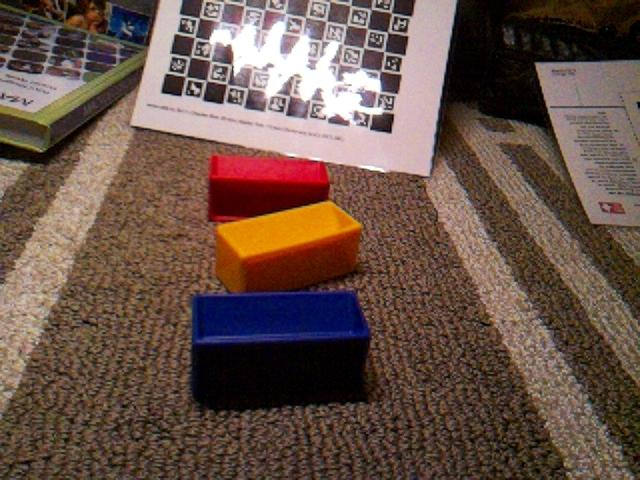blue: (189, 288, 372, 407)
red: (206, 152, 331, 222)
yellow: (214, 199, 364, 293)
